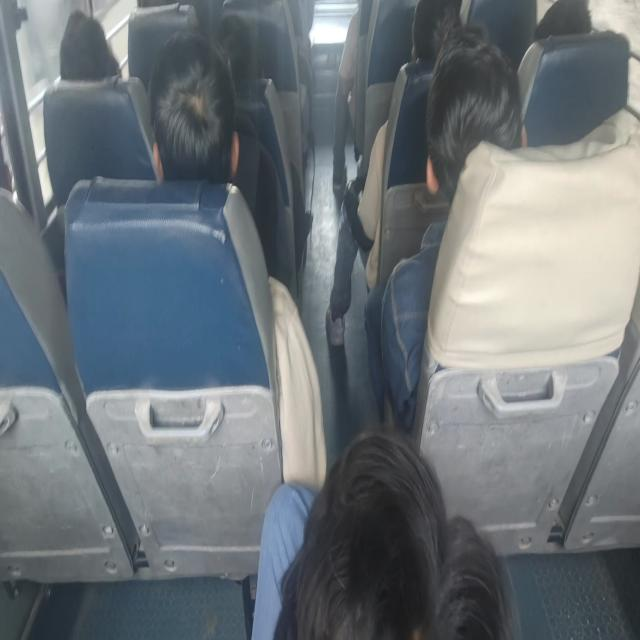person: (262, 418, 512, 640), (426, 46, 509, 215), (150, 57, 244, 196), (58, 2, 112, 84), (527, 0, 594, 61), (206, 9, 260, 82), (402, 0, 457, 68), (0, 95, 25, 212)
